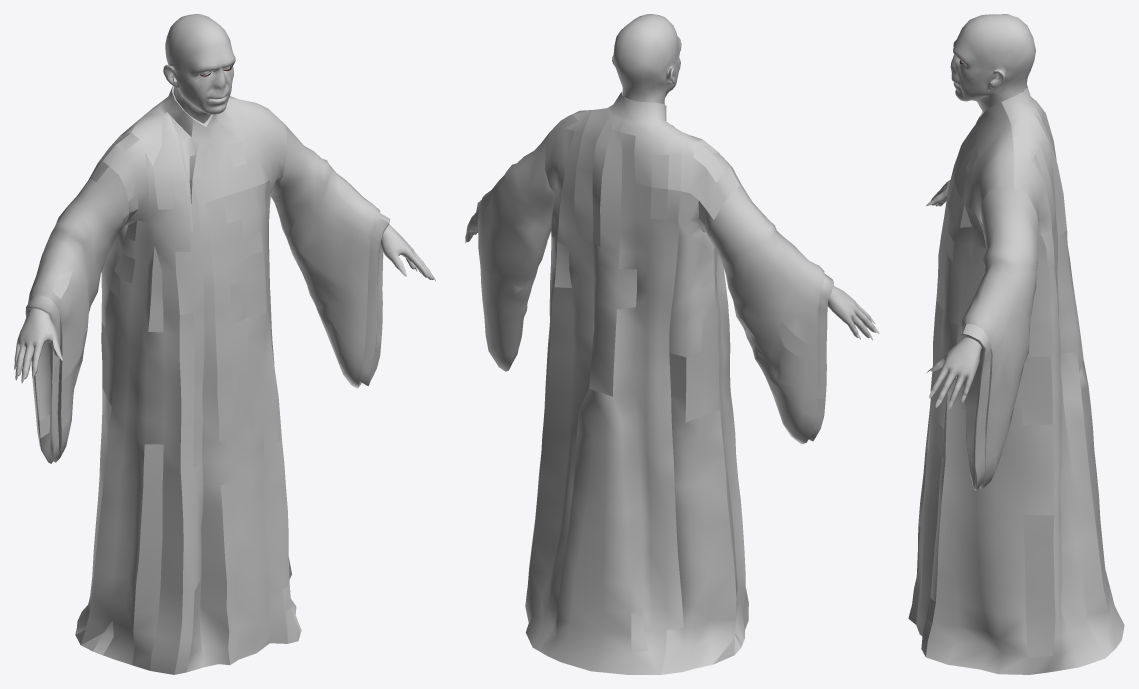
File: voldemort.FBX
3 renders of one model, left to right at view 1: azimuth 30°, elevation 25°; view 2: azimuth 150°, elevation 25°; view 3: azimuth 270°, elevation 25°, orthographic.
Visible parts, largest first — view 1: 4a5bbd98_obj, 4a5ba290_obj, 4a5b6c80_obj, 49904098_obj, 4a5bd8a0_obj; view 2: 4a5bbd98_obj, 4a5ba290_obj, 4a5b6c80_obj, 49904098_obj, 4a5bd8a0_obj; view 3: 4a5bbd98_obj, 4a5ba290_obj, 49904098_obj, 4a5bd8a0_obj.
Part boxes in pixels (x1,y1,x2,y2): 4a5bbd98_obj: (75, 112, 389, 674); 4a5ba290_obj: (36, 86, 298, 672); 4a5b6c80_obj: (25, 166, 128, 463); 49904098_obj: (163, 14, 235, 123); 4a5bd8a0_obj: (14, 224, 433, 379); 4a5bbd98_obj: (475, 110, 748, 674); 4a5ba290_obj: (545, 91, 825, 674); 4a5b6c80_obj: (704, 167, 833, 444); 49904098_obj: (612, 14, 681, 104); 4a5bd8a0_obj: (465, 213, 876, 337); 4a5bbd98_obj: (916, 108, 1124, 674); 4a5ba290_obj: (908, 84, 1083, 656); 49904098_obj: (950, 14, 1035, 112); 4a5bd8a0_obj: (930, 180, 981, 404).
Size of what is drawn, in the model's own units: 40.92 by 18.55 by 58.01.
